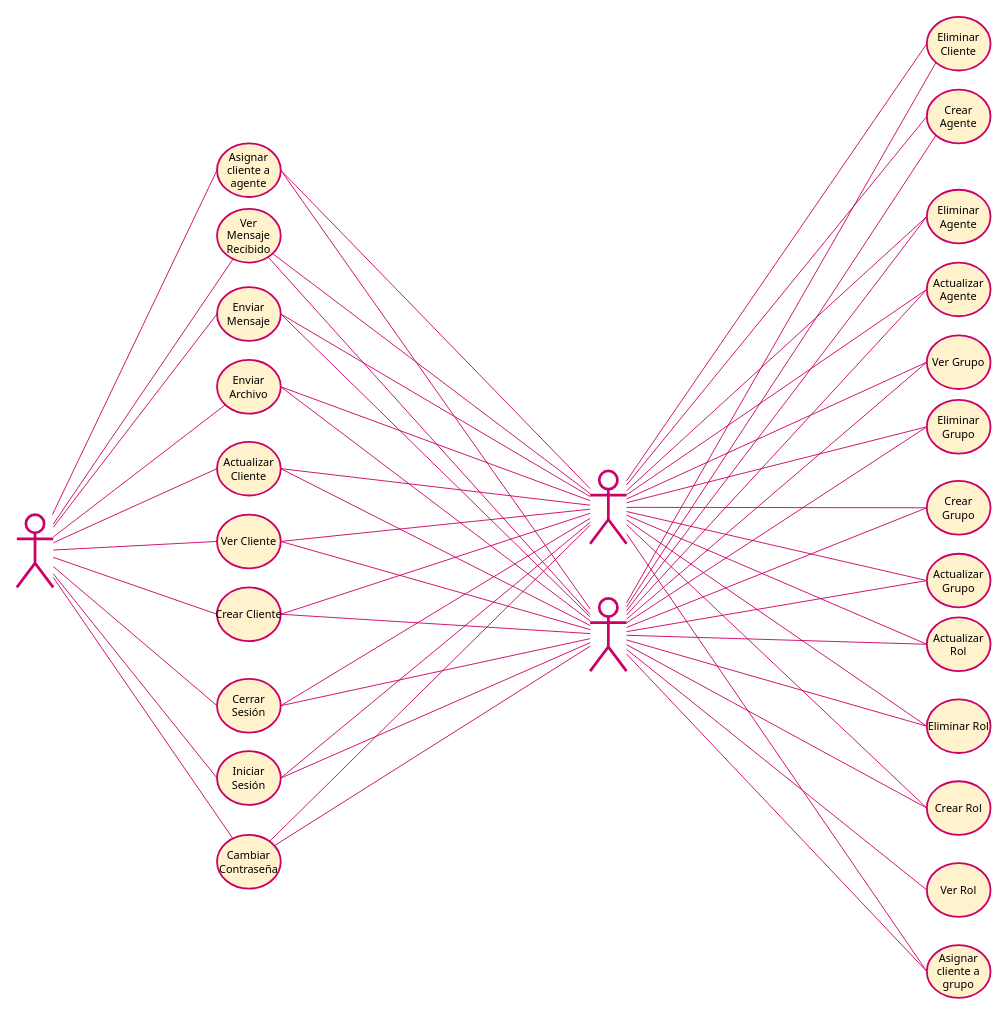
The diagram is 1007 pixels wide and 1014 high, and some of its shapes have lost their labels. Here are the shapes that lost their labels. From the top down, the box of each, then its label:
(588, 469, 627, 545): CRM
(15, 513, 54, 588): Agente
(588, 597, 627, 672): Usuario Soporte
